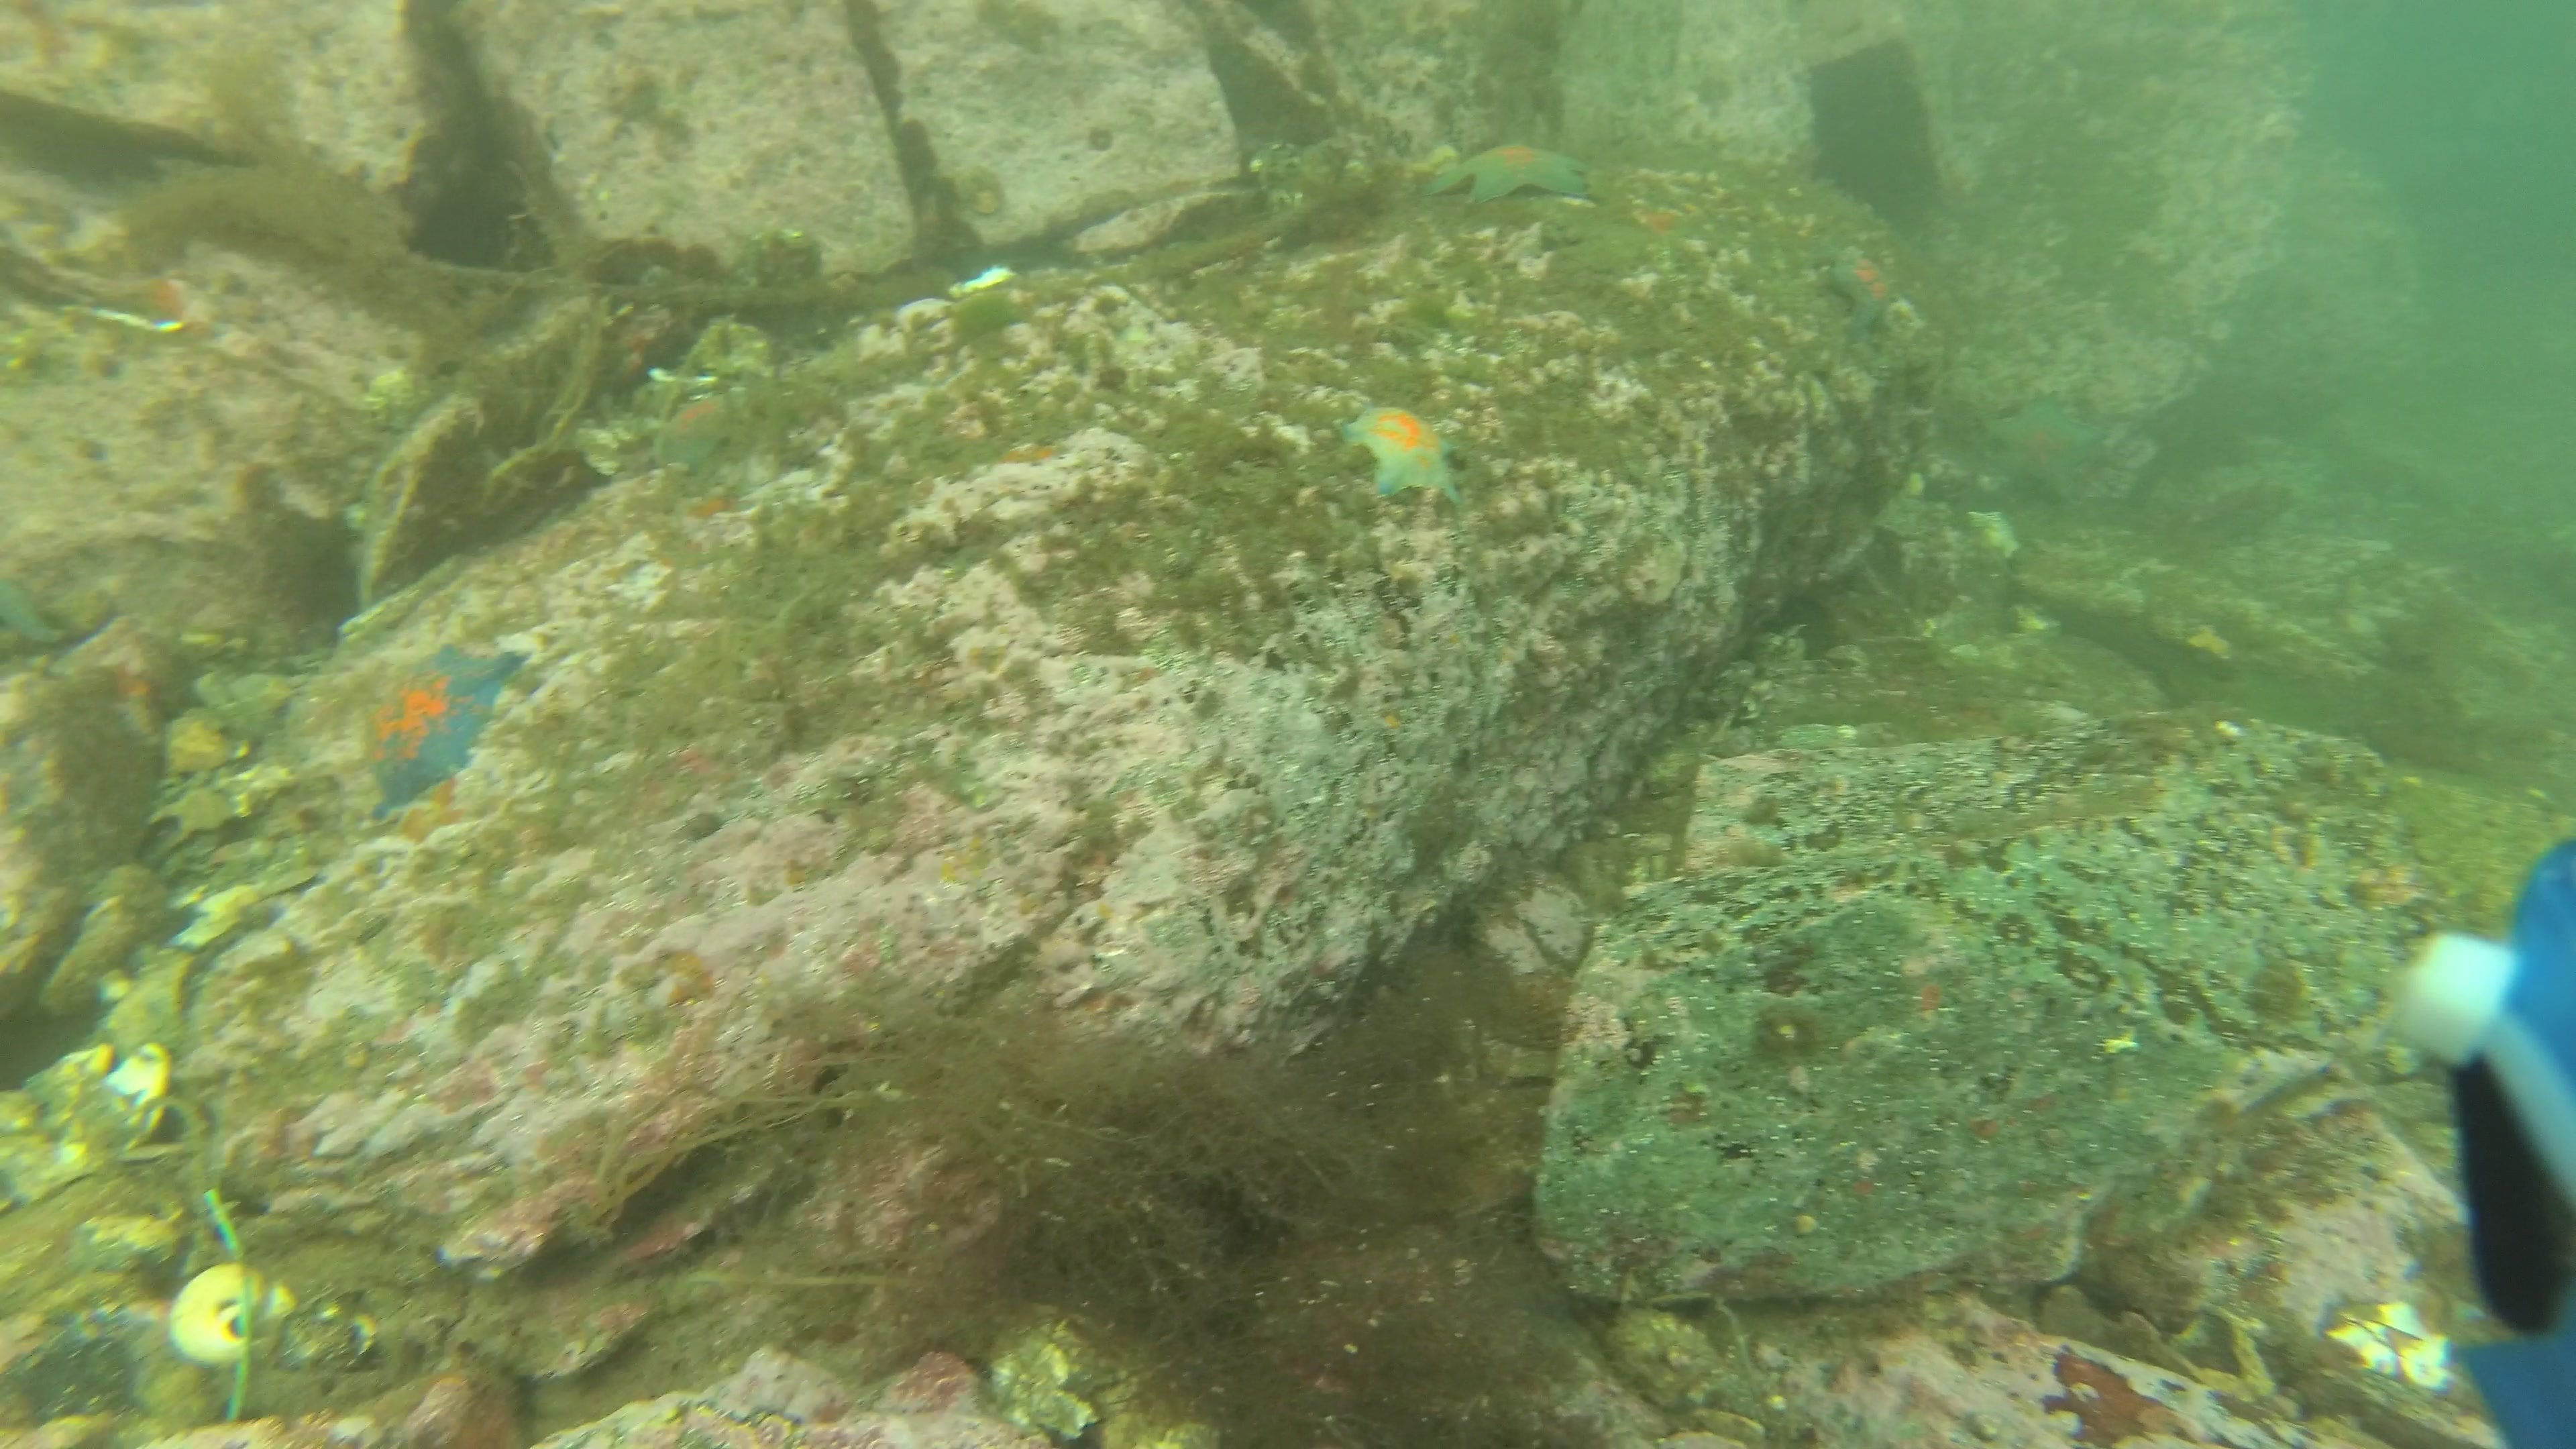starfish: (356, 633, 534, 823), (1327, 389, 1477, 513), (1419, 127, 1603, 214), (639, 380, 766, 481), (1813, 237, 1916, 341)
